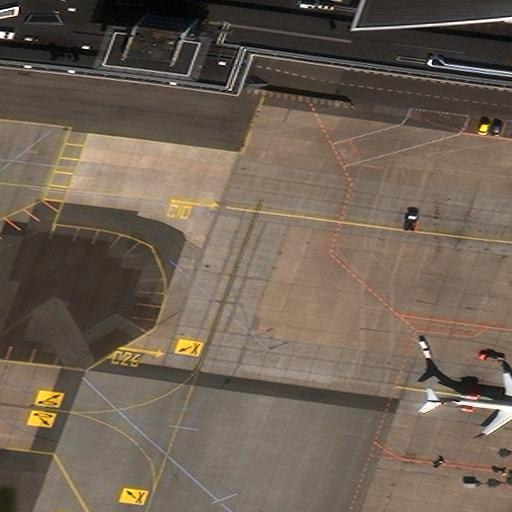Medium Civil Transport: (426, 373, 511, 435)
